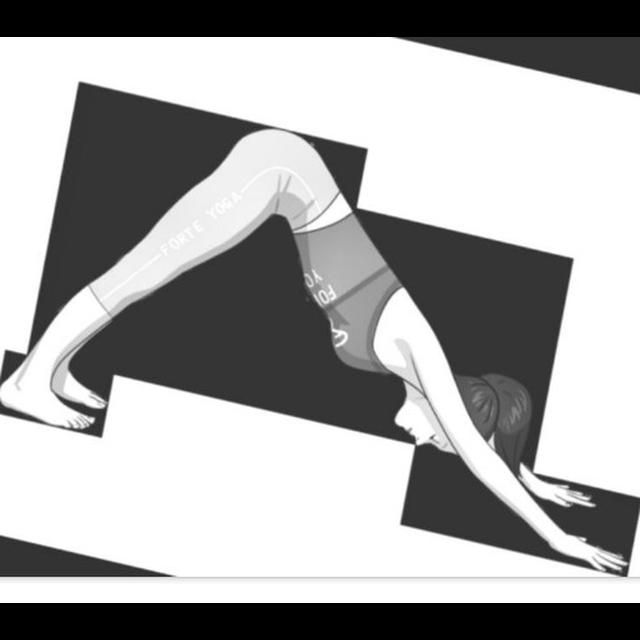Downward-Facing_Dog: (1, 123, 640, 581)
